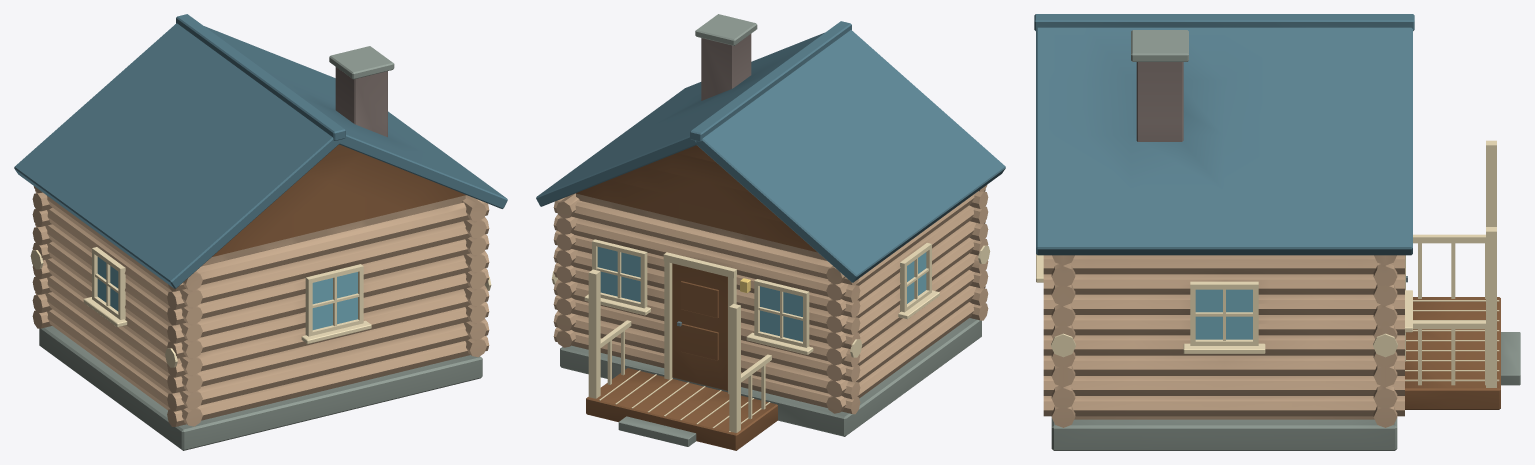
File: sm_arch_delivery_house_cabin.glb
3 renders of one model, left to right at view 1: azimuth 30°, elevation 25°; view 2: azimuth 150°, elevation 25°; view 3: azimuth 270°, elevation 25°, orthographic. The views are drawn at different scales.
Visible parts, largest first — view 1: Roof, Foundation, RoofGable.001, Roof.001, Log.004, Log.032, Log.028, Log.008, Log, Log.020, Log.012, Log.024 (+16 smaller); view 2: Roof, RoofGable, Roof.001, Porch, Foundation, Log.033, Log.029, FrontDoor, Log.005, Log.009, RoofRidge, Log.001 (+26 smaller); view 3: Roof.001, Foundation, Porch, Log.011, Log.003, Log.007, Log.031, Log.027, Log.023, RoofRidge, Log.019, Log.015 (+11 smaller).
Boxes of the visible parts, bbox=[...] form: Roof: bbox=[14, 23, 339, 288]; Foundation: bbox=[39, 326, 482, 450]; RoofGable.001: bbox=[212, 144, 465, 256]; Roof.001: bbox=[204, 26, 507, 208]; Log.004: bbox=[167, 318, 489, 411]; Log.032: bbox=[168, 199, 489, 291]; Log.028: bbox=[167, 217, 489, 309]; Log.008: bbox=[167, 302, 489, 393]; Log: bbox=[167, 336, 489, 426]; Log.020: bbox=[167, 250, 489, 343]; Log.012: bbox=[167, 285, 489, 377]; Log.024: bbox=[167, 234, 489, 325]; Roof: bbox=[696, 30, 1005, 282]; RoofGable: bbox=[576, 145, 817, 252]; Roof.001: bbox=[536, 32, 824, 206]; Porch: bbox=[586, 368, 777, 450]; Foundation: bbox=[560, 318, 981, 436]; Log.033: bbox=[553, 197, 859, 285]; Log.029: bbox=[553, 214, 860, 302]; FrontDoor: bbox=[672, 263, 727, 390]; Log.005: bbox=[553, 311, 860, 399]; Log.009: bbox=[553, 295, 860, 381]; RoofRidge: bbox=[690, 21, 851, 141]; Log.001: bbox=[553, 327, 860, 414]; Roof.001: bbox=[1036, 27, 1412, 255]; Foundation: bbox=[1051, 418, 1397, 450]; Porch: bbox=[1405, 297, 1500, 409]; Log.011: bbox=[1043, 355, 1404, 375]; Log.003: bbox=[1043, 396, 1404, 416]; Log.007: bbox=[1043, 376, 1404, 395]; Log.031: bbox=[1043, 255, 1404, 274]; Log.027: bbox=[1043, 274, 1404, 294]; Log.023: bbox=[1043, 294, 1404, 314]; RoofRidge: bbox=[1034, 14, 1414, 30]; Log.019: bbox=[1043, 315, 1404, 335]; Log.015: bbox=[1043, 335, 1404, 355].
Bounding box in the file's own units: 5.94 × 5.13 × 6.19.
